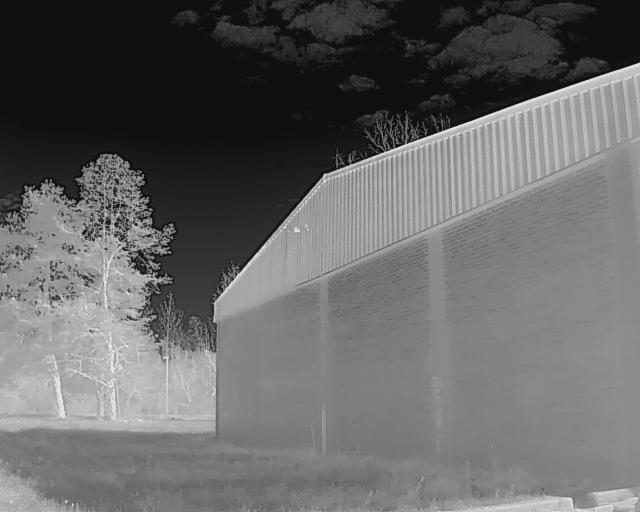drone: (271, 221, 306, 242)
